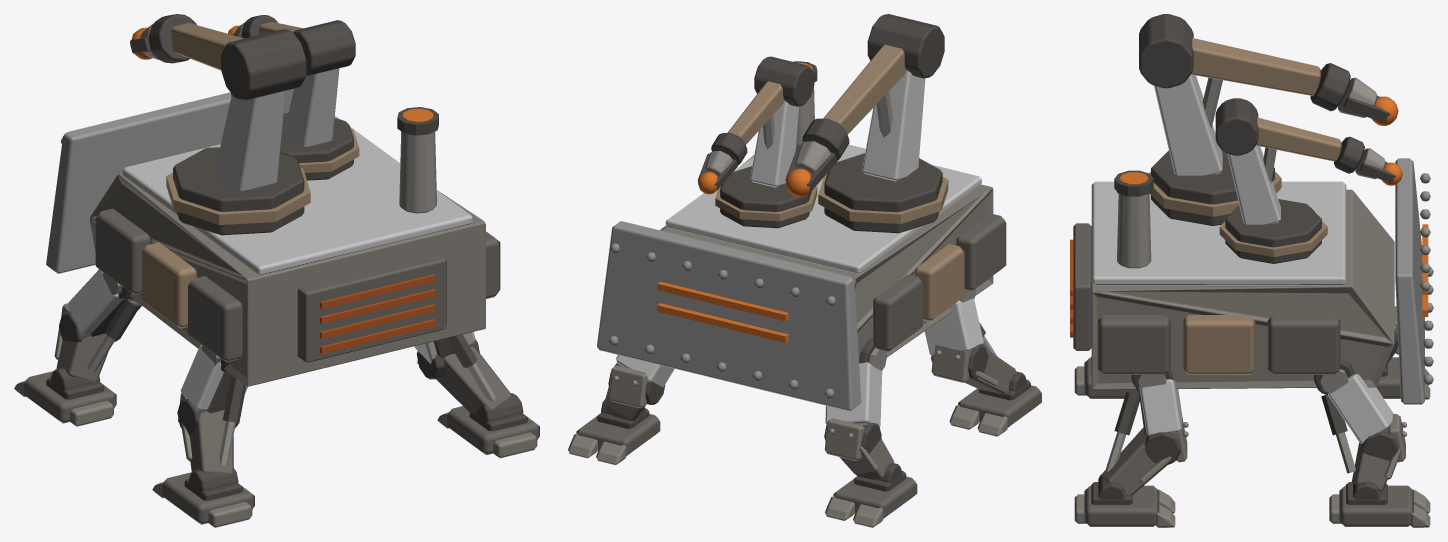
File: crucible_builder_adv_bot.glb
3 views of the same model, side by side, from view 1: azimuth 30°, elevation 25°; view 2: azimuth 150°, elevation 25°; view 3: azimuth 270°, elevation 25° (orthographic). The views are drawn at different scales.
Visible parts, largest first — view 1: Body; view 2: Body; view 3: Body.
Part boxes in pixels (box(x1,y1,x2,y2)): Body: box(14, 14, 539, 527); Body: box(568, 14, 1041, 527); Body: box(1070, 14, 1433, 527).
Size of the model in its own units: 1.21 by 1.45 by 1.2.
